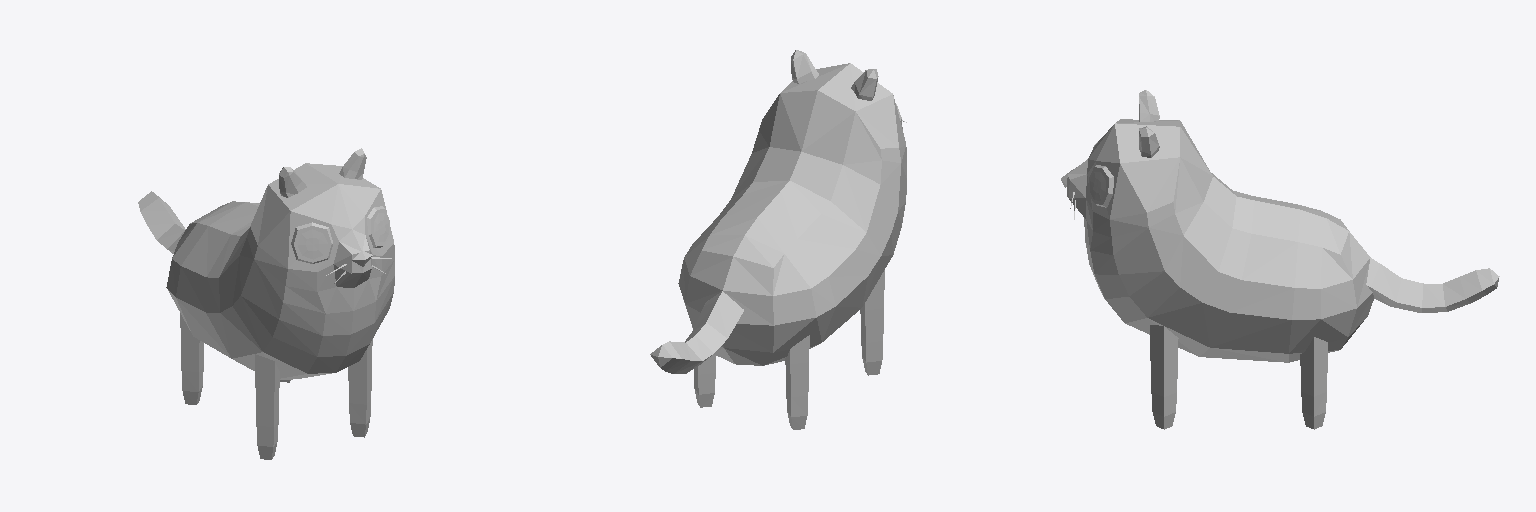
The model's file is Cat_LOD3.obj.
3 views of the same model, side by side, from view 1: azimuth 30°, elevation 25°; view 2: azimuth 150°, elevation 25°; view 3: azimuth 270°, elevation 25° (orthographic).
Visible parts, largest first — view 1: Mesh_Cat_LOD3; view 2: Mesh_Cat_LOD3; view 3: Mesh_Cat_LOD3.
Part boxes in pixels (x1,y1,x2,y2): Mesh_Cat_LOD3: (138, 148, 394, 459); Mesh_Cat_LOD3: (650, 50, 906, 429); Mesh_Cat_LOD3: (1061, 90, 1499, 429).
Size of the model in its own units: 0.4652 by 0.8726 by 1.18.